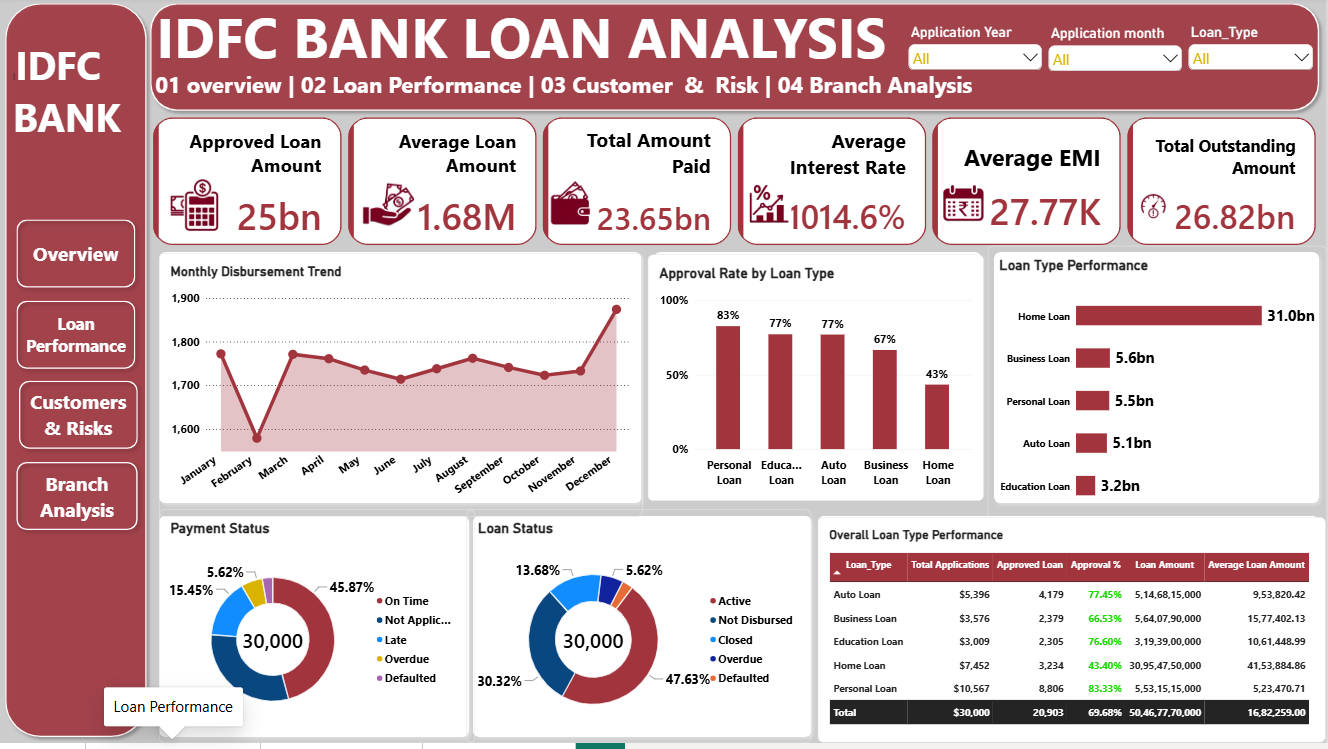

This screenshot's page, from the dashboard's own definition file:
{"tool":"powerbi","page":{"name":"Loan Performance","canvas":[1920,1080],"ordinal":1},"visuals":[{"type":"shape","box":[209.9,0,1710.1,173.7],"z":0},{"type":"shape","box":[0,0,222.6,1080.4],"z":1000},{"type":"textbox","box":[228,1.8,1388,137.5],"z":2000},{"type":"cardVisual","fields":{"Data":["Loan_Clean Data.Approved Loan Amount","Loan_Clean Data.Average Loan Amount","Loan_Clean Data.Total Amount Paid","Loan_Clean Data.Average Interest Rate","Loan_Clean Data.Average EMI","Loan_Clean Data.Total Outstanding Amount"]},"box":[222.6,173.7,1684.8,186.4],"z":3000},{"type":"shape","box":[222.6,360.1,716.6,381.8],"z":4000},{"type":"shape","box":[939.2,360.1,492.2,369.2],"z":5000},{"type":"shape","box":[1431.4,360.1,488.6,381.8],"z":6000},{"type":"shape","box":[222.6,742,466.9,338.4],"z":7000},{"type":"shape","box":[676.8,742,508.5,338.4],"z":8000},{"type":"lineChart","title":"Monthly Disbursement Trend","fields":{"Category":["Loan_Clean Data.Disbursement_Date.Variation.Date Hierarchy.Month"],"Y":["Loan_Clean Data.Approved Loan"]},"box":[231.6,371,700.3,381.8],"z":9000},{"type":"donutChart","title":"Payment Status","fields":{"Category":["Loan_Clean Data.Payment_Status"],"Y":["CountNonNull(Loan_Clean Data.Loan_ID)"]},"box":[231.6,742,457.8,338.4],"z":10000},{"type":"clusteredBarChart","title":"Loan Type Performance","fields":{"Category":["Loan_Clean Data.Loan_Type"],"Y":["Sum(Loan_Clean Data.Loan_Amount)"]},"box":[1431.4,360.1,490.4,405.4],"z":11000},{"type":"columnChart","title":"Approval Rate by Loan Type","fields":{"Category":["Loan_Clean Data.Loan_Type"],"Y":["Loan_Clean Data.Approval Rate"]},"box":[939.2,372.8,486.8,356.5],"z":12000},{"type":"textbox","box":[226.7,105,1468.3,60],"z":13000},{"type":"slicer","fields":{"Values":["Loan_Clean Data.Application Year"]},"box":[1312,38,202.7,67],"z":14000},{"type":"slicer","fields":{"Values":["Loan_Clean Data.Application month"]},"box":[1514.7,39.8,202.7,67],"z":15000},{"type":"slicer","fields":{"Values":["Loan_Clean Data.Loan_Type"]},"box":[1717.4,38,190,67],"z":16000},{"type":"shape","box":[1176.7,742.2,743.8,338.4],"z":17000},{"type":"donutChart","title":"Loan Status ","fields":{"Category":["Loan_Clean Data.Loan_Status"],"Y":["CountNonNull(Loan_Clean Data.Loan_ID)"]},"box":[676.8,742,499.5,338.4],"z":18000},{"type":"tableEx","title":"Overall Loan Type Performance","fields":{"Values":["Loan_Clean Data.Loan_Type","Loan_Clean Data.Total Applications","Loan_Clean Data.Approved Loan","Loan_Clean Data.Approval Rate","Loan_Clean Data.Total Loan Amount","Loan_Clean Data.Average Loan Amount"]},"box":[1185.6,753.3,735,326.7],"z":19000},{"type":"actionButton","box":[16.7,663.3,193.3,116.7],"z":20000},{"type":"actionButton","box":[16.7,430,190,116.7],"z":21000},{"type":"actionButton","box":[20,546.7,190,116.7],"z":22000},{"type":"actionButton","box":[16.7,313.3,190,116.7],"z":23000},{"type":"image","box":[246.1,204.5,85.1,188.2],"z":24000},{"type":"image","box":[524.8,204.5,76,188.2],"z":25000},{"type":"image","box":[796.3,204.5,65.1,188.2],"z":26000},{"type":"image","box":[1084,204.5,63.3,188.2],"z":27000},{"type":"image","box":[1362.7,204.5,68.8,188.2],"z":28000},{"type":"image","box":[1646.8,164.7,57.9,275.1],"z":29000},{"type":"textbox","box":[19.9,59.7,211.7,217.2],"z":29001}]}

Visuals, with their boxes in screenshot pixels (x1, y1, x2, y2), scaled from the page's 1920x1080 canvas onto the 1328x749 screenshot:
shape: region(145, 0, 1327, 120)
shape: region(0, 0, 154, 748)
textbox: region(158, 1, 1118, 97)
cardVisual - Loan_Clean Data.Approved Loan Amount x Loan_Clean Data.Average Loan Amount: region(154, 120, 1319, 250)
shape: region(154, 250, 650, 515)
shape: region(650, 250, 990, 506)
shape: region(990, 250, 1327, 515)
shape: region(154, 515, 477, 748)
shape: region(468, 515, 820, 748)
"Monthly Disbursement Trend" lineChart: region(160, 257, 645, 522)
"Payment Status" donutChart: region(160, 515, 477, 748)
"Loan Type Performance" clusteredBarChart: region(990, 250, 1327, 531)
"Approval Rate by Loan Type" columnChart: region(650, 259, 986, 506)
textbox: region(157, 73, 1172, 114)
slicer - Loan_Clean Data.Application Year: region(907, 26, 1048, 73)
slicer - Loan_Clean Data.Application month: region(1048, 28, 1188, 74)
slicer - Loan_Clean Data.Loan_Type: region(1188, 26, 1319, 73)
shape: region(814, 515, 1327, 748)
"Loan Status " donutChart: region(468, 515, 814, 748)
"Overall Loan Type Performance" tableEx: region(820, 522, 1327, 748)
actionButton: region(12, 460, 145, 541)
actionButton: region(12, 298, 143, 379)
actionButton: region(14, 379, 145, 460)
actionButton: region(12, 217, 143, 298)
image: region(170, 142, 229, 272)
image: region(363, 142, 416, 272)
image: region(551, 142, 596, 272)
image: region(750, 142, 794, 272)
image: region(943, 142, 990, 272)
image: region(1139, 114, 1179, 305)
textbox: region(14, 41, 160, 192)
